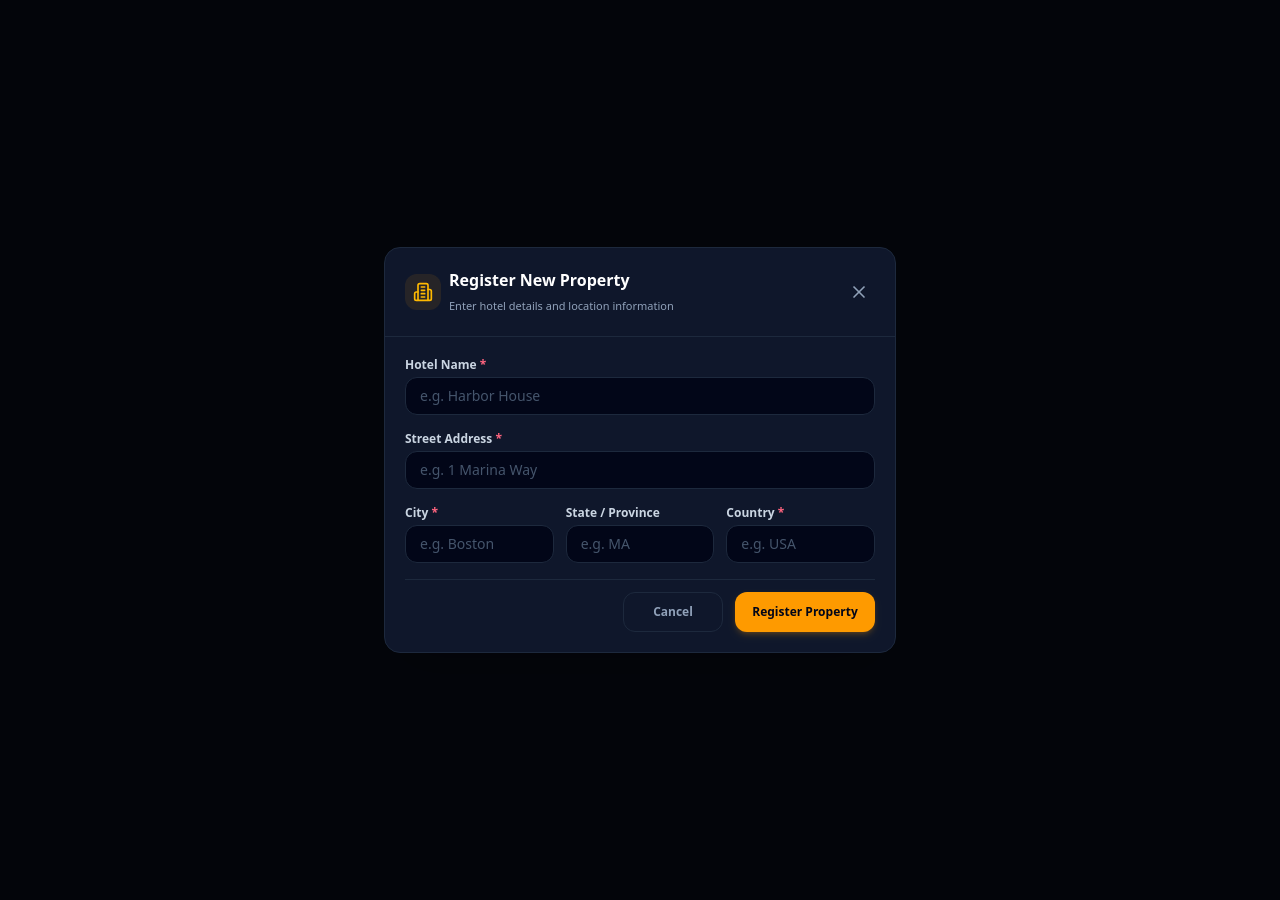
Scenario: CreateHotelModal Component Tests › validates required fields on submission
This screenshot has width=1280, height=900.
Click the button "Register Property".
click(805, 612)  # box [735,592,875,632]
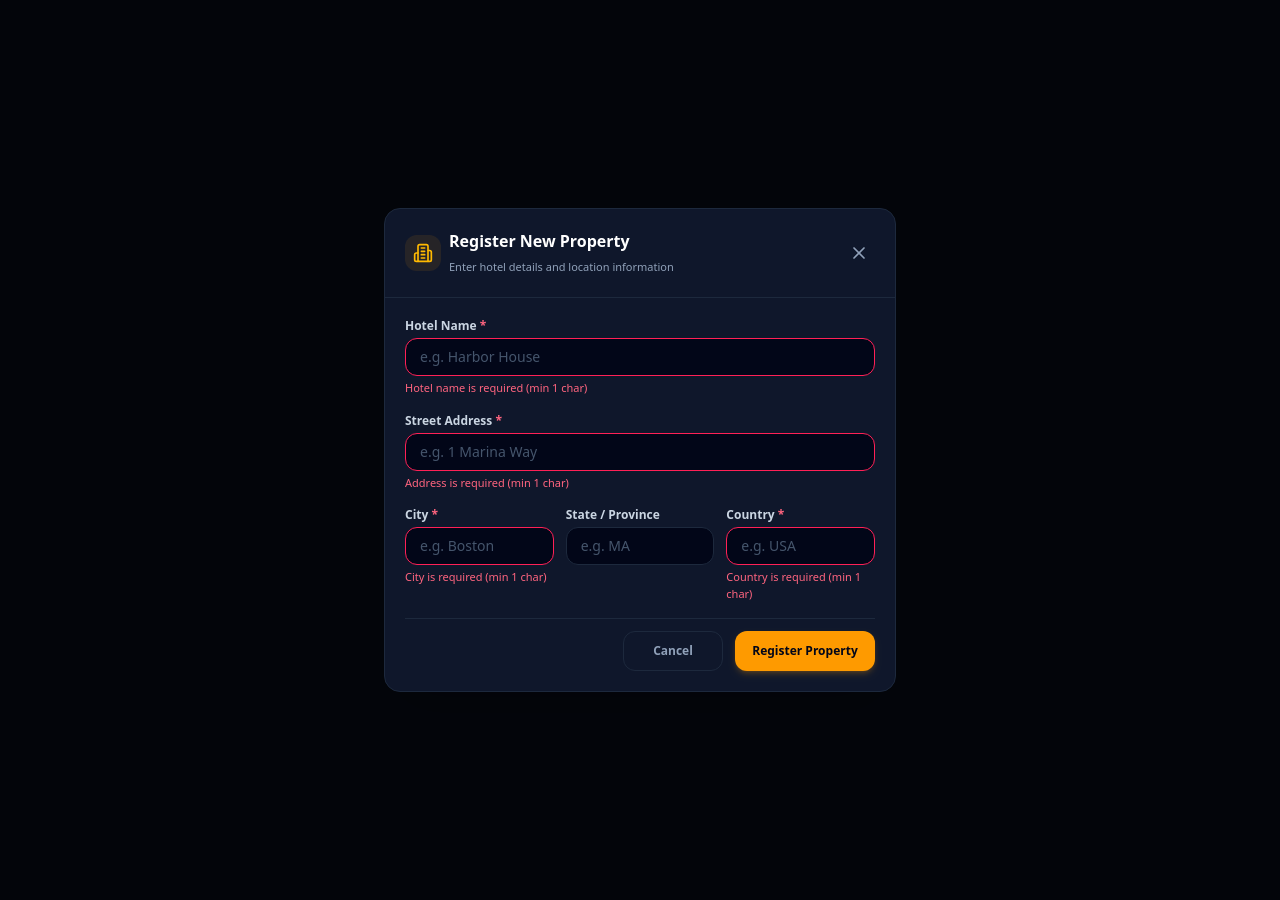
Result: the text "Hotel name is required (min 1 char)" is shown at [405,380,587,395]
Result: the text "Address is required (min 1 char)" is shown at [405,474,569,490]
